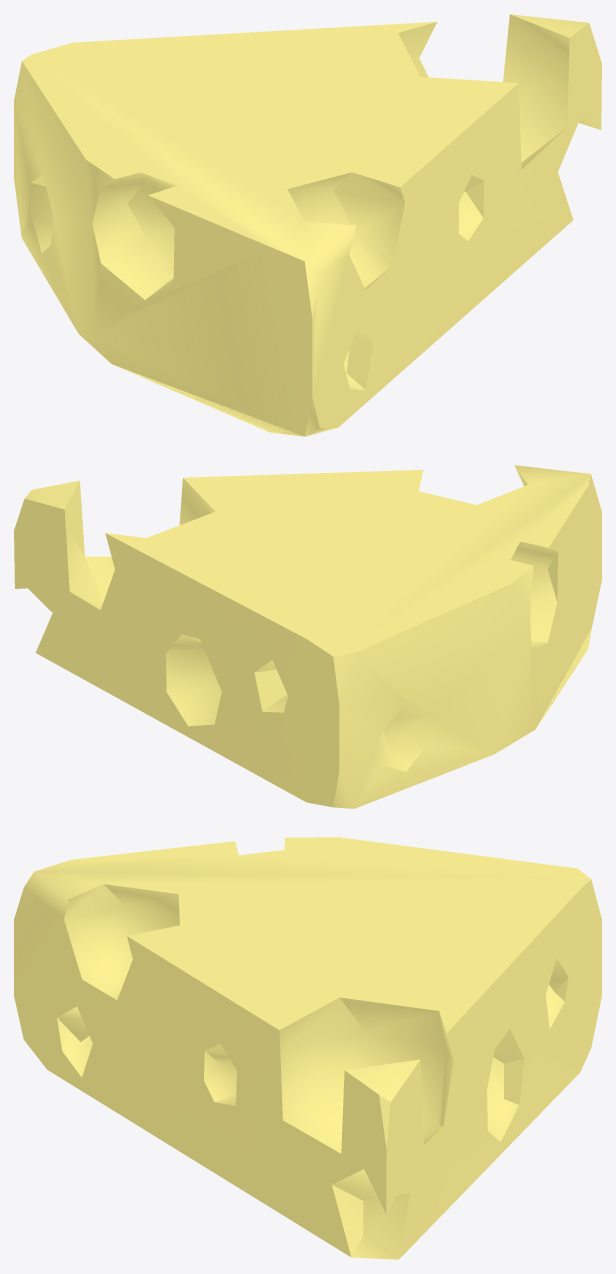
Rendered from cheese.glb.
3 views of the same model, one above another, from view 1: azimuth 30°, elevation 25°; view 2: azimuth 150°, elevation 25°; view 3: azimuth 270°, elevation 25° (orthographic). The views are drawn at different scales.
Parts seen in each view (by area): view 1: Cheese; view 2: Cheese; view 3: Cheese.
Part boxes in pixels (<box>): Cheese: <box>14,14,601,436</box>; Cheese: <box>14,465,601,808</box>; Cheese: <box>14,837,601,1259</box>.
Bounding box in the file's own units: 1.06 × 0.3471 × 1.
